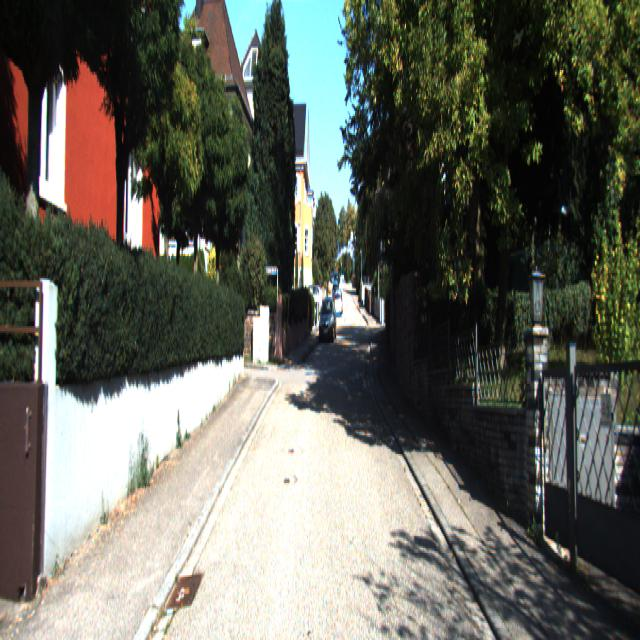Car: (318, 302, 337, 347)
